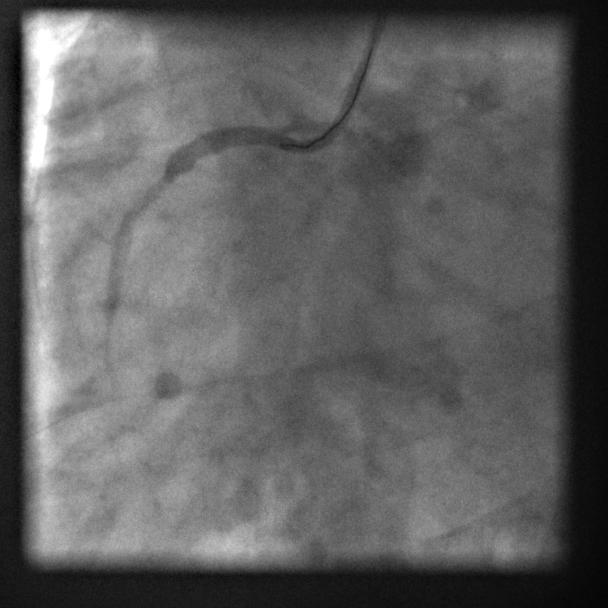Stenosis: (113, 166, 178, 217)
